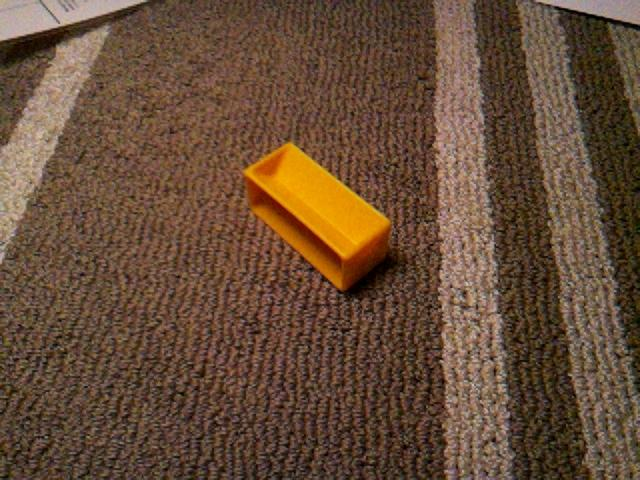yellow: (242, 141, 393, 293)
